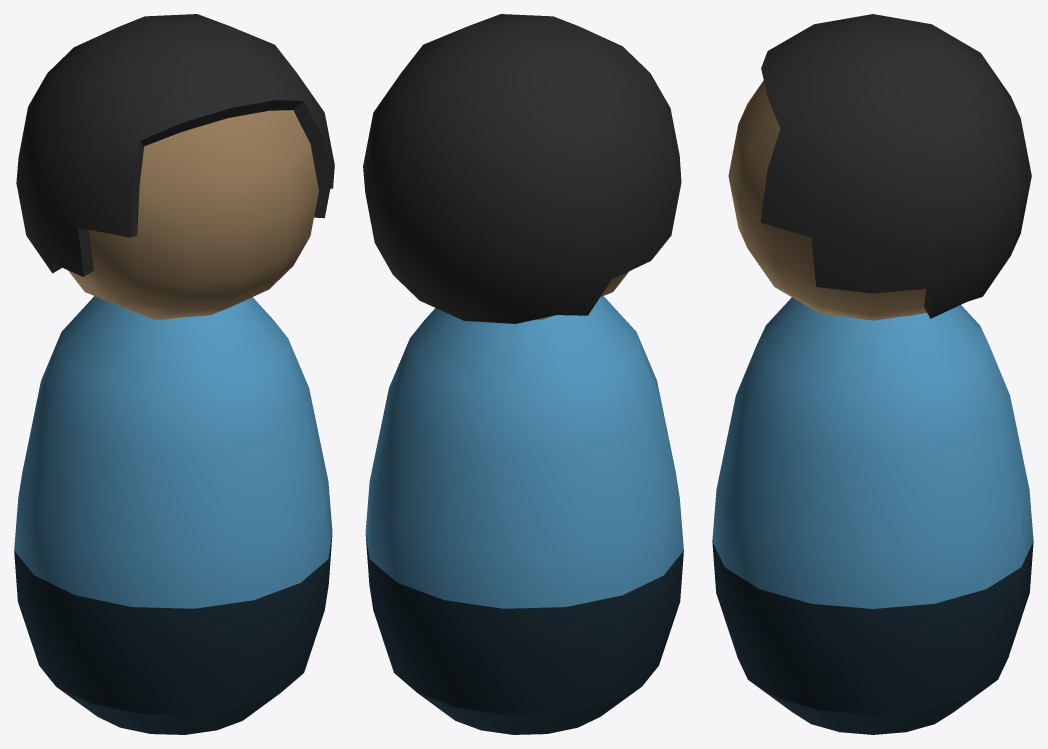
The model's file is Argentino 02.fbx.
The picture shows the model from 3 angles, left to right: view 1: azimuth 30°, elevation 25°; view 2: azimuth 150°, elevation 25°; view 3: azimuth 270°, elevation 25°; orthographic projection.
Parts seen in each view (by area): view 1: Cylinder.048; view 2: Cylinder.048; view 3: Cylinder.048.
Boxes of the visible parts, x1,y1,x2,y2 form: Cylinder.048: (14,14,334,734); Cylinder.048: (363,14,683,734); Cylinder.048: (712,14,1033,734).
Bounding box in the file's own units: 0.7234 × 1.66 × 0.7212.
